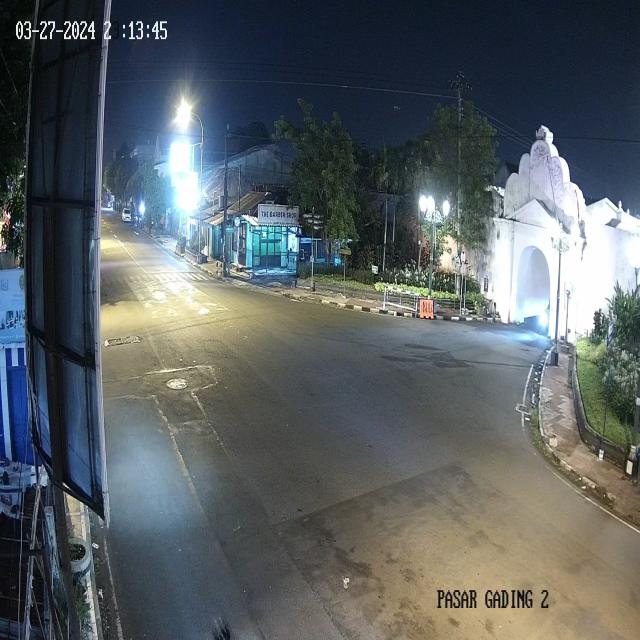car: (120, 206, 134, 223)
